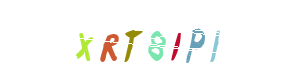1: (156, 0, 236, 80)
8: (91, 0, 171, 80)
I: (107, 0, 187, 80)
P: (134, 0, 214, 80)
R: (80, 0, 160, 80)
T: (88, 0, 168, 80)
X: (46, 0, 126, 80)
